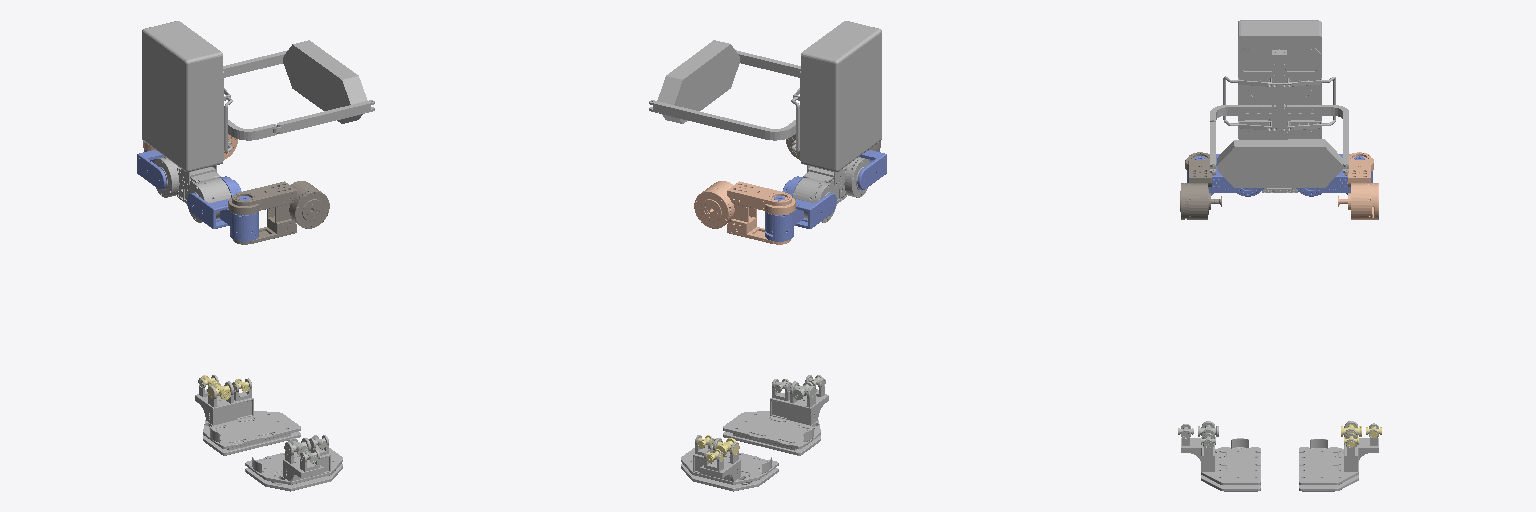
robot.urdf — SIAT:
<?xml version="1.0" encoding="utf-8"?>
<!-- This URDF was automatically created by SolidWorks to URDF Exporter! Originally created by [author] ([email redacted]) 
     Commit Version: 1.6.0-4-g7f85cfe  Build Version: 1.6.7995.38578
     For more information, please see http://wiki.ros.org/sw_urdf_exporter -->
<robot
  name="SIAT">
  <link
    name="base_link">
    <inertial>
      <origin
        xyz="0.12283 0.0054798 0.19053"
        rpy="0 0 0" />
      <mass
        value="11.483" />
      <inertia
        ixx="0.10681"
        ixy="-0.007053"
        ixz="-0.00047763"
        iyy="0.1025"
        iyz="6.0356E-05"
        izz="0.12332" />
    </inertial>
    <visual>
      <origin
        xyz="0 0 0"
        rpy="0 0 0" />
      <geometry>
        <mesh
          filename="package://SIAT/meshes/base_link.STL" />
      </geometry>
      <material
        name="">
        <color
          rgba="0.75294 0.75294 0.75294 1" />
      </material>
    </visual>
    <collision>
      <origin
        xyz="0 0 0"
        rpy="0 0 0" />
      <geometry>
        <mesh
          filename="package://SIAT/meshes/base_link.STL" />
      </geometry>
    </collision>
  </link>
  <link
    name="r_1">
    <inertial>
      <origin
        xyz="0.079905 -0.0081434 0.026887"
        rpy="0 0 0" />
      <mass
        value="2.8322" />
      <inertia
        ixx="0.0025127"
        ixy="0.00039573"
        ixz="-7.1211E-05"
        iyy="0.0065445"
        iyz="-5.6669E-05"
        izz="0.0072351" />
    </inertial>
    <visual>
      <origin
        xyz="0 0 0"
        rpy="0 0 0" />
      <geometry>
        <mesh
          filename="package://SIAT/meshes/r_1.STL" />
      </geometry>
      <material
        name="">
        <color
          rgba="0.5451 0.61569 0.85882 1" />
      </material>
    </visual>
    <collision>
      <origin
        xyz="0 0 0"
        rpy="0 0 0" />
      <geometry>
        <mesh
          filename="package://SIAT/meshes/r_1.STL" />
      </geometry>
    </collision>
  </link>
  <joint
    name="joint_r_1"
    type="revolute">
    <origin
      xyz="0 0.105 0"
      rpy="1.5708 0 1.5708" />
    <parent
      link="base_link" />
    <child
      link="r_1" />
    <axis
      xyz="0 0 -1" />
    <limit
      lower="-0.5236"
      upper="0.69813"
      effort="300"
      velocity="10" />
  </joint>
  <link
    name="r_2">
    <inertial>
      <origin
        xyz="0.11644 0.0055321 0.028381"
        rpy="0 0 0" />
      <mass
        value="4.2266" />
      <inertia
        ixx="0.0044533"
        ixy="7.1351E-05"
        ixz="-8.8635E-05"
        iyy="0.012089"
        iyz="-2.3903E-05"
        izz="0.012074" />
    </inertial>
    <visual>
      <origin
        xyz="0 0 0"
        rpy="0 0 0" />
      <geometry>
        <mesh
          filename="package://SIAT/meshes/r_2.STL" />
      </geometry>
      <material
        name="">
        <color
          rgba="0.92941 0.76863 0.67059 1" />
      </material>
    </visual>
    <collision>
      <origin
        xyz="0 0 0"
        rpy="0 0 0" />
      <geometry>
        <mesh
          filename="package://SIAT/meshes/r_2.STL" />
      </geometry>
    </collision>
  </link>
  <joint
    name="joint_r_2"
    type="revolute">
    <origin
      xyz="0.159 0 0"
      rpy="-1.5708 -1.5708 0" />
    <parent
      link="r_1" />
    <child
      link="r_2" />
    <axis
      xyz="0 0 -1" />
    <limit
      lower="-0.38397"
      upper="0.5236"
      effort="300"
      velocity="10" />
  </joint>
  <link
    name="r_3">
    <inertial>
      <origin
        xyz="0.22207 0.00020696 -0.026349"
        rpy="0 0 0" />
      <mass
        value="11.84" />
      <inertia
        ixx="0.014461"
        ixy="-0.00099269"
        ixz="-0.0049046"
        iyy="0.1909"
        iyz="0.00030176"
        izz="0.20128" />
    </inertial>
    <visual>
      <origin
        xyz="0 0 0"
        rpy="0 0 0" />
      <geometry>
        <mesh
          filename="package://SIAT/meshes/r_3.STL" />
      </geometry>
      <material
        name="">
        <color
          rgba="0.8902 0.71765 0.58824 1" />
      </material>
    </visual>
    <collision>
      <origin
        xyz="0 0 0"
        rpy="0 0 0" />
      <geometry>
        <mesh
          filename="package://SIAT/meshes/r_3.STL" />
      </geometry>
    </collision>
  </link>
  <joint
    name="joint_r_3"
    type="revolute">
    <origin
      xyz="0.205 0 0"
      rpy="-1.5708 1.5708 0" />
    <parent
      link="r_2" />
    <child
      link="r_3" />
    <axis
      xyz="0 0 1" />
    <limit
      lower="-0.69813"
      upper="0.2618"
      effort="300"
      velocity="10" />
  </joint>
  <link
    name="r_4">
    <inertial>
      <origin
        xyz="0.12085 0.011457 -0.024406"
        rpy="0 0 0" />
      <mass
        value="3.321" />
      <inertia
        ixx="0.0027063"
        ixy="-0.00041011"
        ixz="-0.00092136"
        iyy="0.013003"
        iyz="-7.9616E-05"
        izz="0.012137" />
    </inertial>
    <visual>
      <origin
        xyz="0 0 0"
        rpy="0 0 0" />
      <geometry>
        <mesh
          filename="package://SIAT/meshes/r_4.STL" />
      </geometry>
      <material
        name="">
        <color
          rgba="0.75294 1 1 1" />
      </material>
    </visual>
    <collision>
      <origin
        xyz="0 0 0"
        rpy="0 0 0" />
      <geometry>
        <mesh
          filename="package://SIAT/meshes/r_4.STL" />
      </geometry>
    </collision>
  </link>
  <joint
    name="joint_r_4"
    type="revolute">
    <origin
      xyz="0.44 0 0"
      rpy="0 0 0" />
    <parent
      link="r_3" />
    <child
      link="r_4" />
    <axis
      xyz="0 0 1" />
    <limit
      lower="-0.052399"
      upper="1.2217"
      effort="200"
      velocity="10" />
  </joint>
  <link
    name="r_5">
    <inertial>
      <origin
        xyz="-0.000208 -0.015363 -0.011661"
        rpy="0 0 0" />
      <mass
        value="0.11725" />
      <inertia
        ixx="3.2429E-05"
        ixy="3.1988E-10"
        ixz="6.8398E-11"
        iyy="2.1488E-05"
        iyz="5.1115E-16"
        izz="2.1496E-05" />
    </inertial>
    <visual>
      <origin
        xyz="0 0 0"
        rpy="0 0 0" />
      <geometry>
        <mesh
          filename="package://SIAT/meshes/r_5.STL" />
      </geometry>
      <material
        name="">
        <color
          rgba="0.92157 0.88235 0.64314 1" />
      </material>
    </visual>
    <collision>
      <origin
        xyz="0 0 0"
        rpy="0 0 0" />
      <geometry>
        <mesh
          filename="package://SIAT/meshes/r_5.STL" />
      </geometry>
    </collision>
  </link>
  <joint
    name="joint_r_5"
    type="revolute">
    <origin
      xyz="0.4 0 0"
      rpy="0 0 0" />
    <parent
      link="r_4" />
    <child
      link="r_5" />
    <axis
      xyz="0 0 1" />
    <limit
      lower="-0.62831"
      upper="0.69813"
      effort="200"
      velocity="10" />
  </joint>
  <link
    name="r_6">
    <inertial>
      <origin
        xyz="0.094957 -0.049767 0.038082"
        rpy="0 0 0" />
      <mass
        value="1.4525" />
      <inertia
        ixx="0.0098192"
        ixy="7.9321E-05"
        ixz="-2.2112E-05"
        iyy="0.0068454"
        iyz="0.0002905"
        izz="0.0033135" />
    </inertial>
    <visual>
      <origin
        xyz="0 0 0"
        rpy="0 0 0" />
      <geometry>
        <mesh
          filename="package://SIAT/meshes/r_6.STL" />
      </geometry>
      <material
        name="">
        <color
          rgba="0.75294 0.75294 0.75294 1" />
      </material>
    </visual>
    <collision>
      <origin
        xyz="0 0 0"
        rpy="0 0 0" />
      <geometry>
        <mesh
          filename="package://SIAT/meshes/r_6.STL" />
      </geometry>
    </collision>
  </link>
  <joint
    name="joint_r_6"
    type="revolute">
    <origin
      xyz="0 0 -0.0275"
      rpy="1.5708 0 0" />
    <parent
      link="r_5" />
    <child
      link="r_6" />
    <axis
      xyz="0 0 -1" />
    <limit
      lower="-0.43633"
      upper="0.34907"
      effort="200"
      velocity="10" />
  </joint>
  <link
    name="l_1">
    <inertial>
      <origin
        xyz="0.08002 0.0081433 0.026963"
        rpy="0 0 0" />
      <mass
        value="2.8322" />
      <inertia
        ixx="0.0025118"
        ixy="-0.00039481"
        ixz="-7.0805E-05"
        iyy="0.0065445"
        iyz="5.728E-05"
        izz="0.007236" />
    </inertial>
    <visual>
      <origin
        xyz="0 0 0"
        rpy="0 0 0" />
      <geometry>
        <mesh
          filename="package://SIAT/meshes/l_1.STL" />
      </geometry>
      <material
        name="">
        <color
          rgba="0.5451 0.61569 0.85882 1" />
      </material>
    </visual>
    <collision>
      <origin
        xyz="0 0 0"
        rpy="0 0 0" />
      <geometry>
        <mesh
          filename="package://SIAT/meshes/l_1.STL" />
      </geometry>
    </collision>
  </link>
  <joint
    name="joint_l_1"
    type="revolute">
    <origin
      xyz="0 -0.105 0"
      rpy="-1.5708 0 -1.5708" />
    <parent
      link="base_link" />
    <child
      link="l_1" />
    <axis
      xyz="0 0 -1" />
    <limit
      lower="-0.69813"
      upper="0.5236"
      effort="300"
      velocity="10" />
  </joint>
  <link
    name="l_2">
    <inertial>
      <origin
        xyz="0.11644 -0.0055321 0.028383"
        rpy="0 0 0" />
      <mass
        value="4.2266" />
      <inertia
        ixx="0.0044012"
        ixy="-7.2688E-05"
        ixz="-0.00010249"
        iyy="0.012089"
        iyz="2.2164E-05"
        izz="0.012126" />
    </inertial>
    <visual>
      <origin
        xyz="0 0 0"
        rpy="0 0 0" />
      <geometry>
        <mesh
          filename="package://SIAT/meshes/l_2.STL" />
      </geometry>
      <material
        name="">
        <color
          rgba="0.64706 0.61961 0.58824 1" />
      </material>
    </visual>
    <collision>
      <origin
        xyz="0 0 0"
        rpy="0 0 0" />
      <geometry>
        <mesh
          filename="package://SIAT/meshes/l_2.STL" />
      </geometry>
    </collision>
  </link>
  <joint
    name="joint_l_2"
    type="revolute">
    <origin
      xyz="0.159 0 0"
      rpy="1.5708 -1.5708 0" />
    <parent
      link="l_1" />
    <child
      link="l_2" />
    <axis
      xyz="0 0 -1" />
    <limit
      lower="-0.5236"
      upper="0.38397"
      effort="300"
      velocity="10" />
  </joint>
  <link
    name="l_3">
    <inertial>
      <origin
        xyz="0.22192 0.00017641 0.030643"
        rpy="0 0 0" />
      <mass
        value="11.835" />
      <inertia
        ixx="0.014422"
        ixy="-0.00098286"
        ixz="0.0049082"
        iyy="0.19094"
        iyz="-0.00029818"
        izz="0.20127" />
    </inertial>
    <visual>
      <origin
        xyz="0 0 0"
        rpy="0 0 0" />
      <geometry>
        <mesh
          filename="package://SIAT/meshes/l_3.STL" />
      </geometry>
      <material
        name="">
        <color
          rgba="0.8902 0.71765 0.58824 1" />
      </material>
    </visual>
    <collision>
      <origin
        xyz="0 0 0"
        rpy="0 0 0" />
      <geometry>
        <mesh
          filename="package://SIAT/meshes/l_3.STL" />
      </geometry>
    </collision>
  </link>
  <joint
    name="joint_l_3"
    type="revolute">
    <origin
      xyz="0.205 -0.0042446 0"
      rpy="-1.5708 1.5708 0" />
    <parent
      link="l_2" />
    <child
      link="l_3" />
    <axis
      xyz="0 0 -1" />
    <limit
      lower="-0.69813"
      upper="0.2618"
      effort="300"
      velocity="10" />
  </joint>
  <link
    name="l_4">
    <inertial>
      <origin
        xyz="0.12027 0.011268 0.028835"
        rpy="0 0 0" />
      <mass
        value="3.3252" />
      <inertia
        ixx="0.0027061"
        ixy="-0.00041124"
        ixz="0.00092324"
        iyy="0.013004"
        iyz="7.962E-05"
        izz="0.012137" />
    </inertial>
    <visual>
      <origin
        xyz="0 0 0"
        rpy="0 0 0" />
      <geometry>
        <mesh
          filename="package://SIAT/meshes/l_4.STL" />
      </geometry>
      <material
        name="">
        <color
          rgba="0.64706 0.61961 0.58824 1" />
      </material>
    </visual>
    <collision>
      <origin
        xyz="0 0 0"
        rpy="0 0 0" />
      <geometry>
        <mesh
          filename="package://SIAT/meshes/l_4.STL" />
      </geometry>
    </collision>
  </link>
  <joint
    name="joint_l_4"
    type="revolute">
    <origin
      xyz="0.44 0 0"
      rpy="0 0 0" />
    <parent
      link="l_3" />
    <child
      link="l_4" />
    <axis
      xyz="0 0 -1" />
    <limit
      lower="-0.052399"
      upper="1.2217"
      effort="300"
      velocity="10" />
  </joint>
  <link
    name="l_5">
    <inertial>
      <origin
        xyz="-6.4804E-11 -0.015497 0.016136"
        rpy="0 0 0" />
      <mass
        value="0.11805" />
      <inertia
        ixx="3.2455E-05"
        ixy="-3.133E-10"
        ixz="3.7122E-10"
        iyy="2.1552E-05"
        iyz="-1.5081E-15"
        izz="2.1516E-05" />
    </inertial>
    <visual>
      <origin
        xyz="0 0 0"
        rpy="0 0 0" />
      <geometry>
        <mesh
          filename="package://SIAT/meshes/l_5.STL" />
      </geometry>
      <material
        name="">
        <color
          rgba="0.75686 0.76863 0.75294 1" />
      </material>
    </visual>
    <collision>
      <origin
        xyz="0 0 0"
        rpy="0 0 0" />
      <geometry>
        <mesh
          filename="package://SIAT/meshes/l_5.STL" />
      </geometry>
    </collision>
  </link>
  <joint
    name="joint_l_5"
    type="revolute">
    <origin
      xyz="0.4 0 0"
      rpy="0 0 0" />
    <parent
      link="l_4" />
    <child
      link="l_5" />
    <axis
      xyz="0 0 -1" />
    <limit
      lower="-0.62831"
      upper="0.69813"
      effort="200"
      velocity="10" />
  </joint>
  <link
    name="l_6">
    <inertial>
      <origin
        xyz="0.049726 -0.094974 0.038045"
        rpy="0 0 0" />
      <mass
        value="1.4527" />
      <inertia
        ixx="0.006844"
        ixy="7.9121E-05"
        ixz="-0.00029087"
        iyy="0.0098206"
        iyz="2.2749E-05"
        izz="0.003315" />
    </inertial>
    <visual>
      <origin
        xyz="0 0 0"
        rpy="0 0 0" />
      <geometry>
        <mesh
          filename="package://SIAT/meshes/l_6.STL" />
      </geometry>
      <material
        name="">
        <color
          rgba="0.75294 0.75294 0.75294 1" />
      </material>
    </visual>
    <collision>
      <origin
        xyz="0 0 0"
        rpy="0 0 0" />
      <geometry>
        <mesh
          filename="package://SIAT/meshes/l_6.STL" />
      </geometry>
    </collision>
  </link>
  <joint
    name="joint_l_6"
    type="revolute">
    <origin
      xyz="0 0 0.031745"
      rpy="1.5708 -1.5708 0" />
    <parent
      link="l_5" />
    <child
      link="l_6" />
    <axis
      xyz="0 0 1" />
    <limit
      lower="-0.34907"
      upper="0.43633"
      effort="200"
      velocity="10" />
  </joint>
</robot>

--- Render facts (derived) ---
3 views of the same robot in one strip: view 1: azimuth 30°, elevation 25°; view 2: azimuth 150°, elevation 25°; view 3: azimuth 270°, elevation 25° (orthographic).
Model SIAT with 13 links and 12 joints (12 revolute), rooted at base_link, posed every joint at zero.
Links seen in each view (by area): view 1: base_link, r_6, l_2, l_6, l_1, r_1; view 2: base_link, l_6, r_2, r_6, r_1, l_1; view 3: base_link, l_6, r_6, r_2, l_2, l_1, r_1.
Boxes of the visible links, left/top/right/bottom form: base_link: left=142, top=21, right=374, bottom=222; r_6: left=195, top=375, right=300, bottom=455; l_2: left=228, top=181, right=329, bottom=244; l_6: left=245, top=435, right=342, bottom=491; l_1: left=187, top=176, right=258, bottom=241; r_1: left=137, top=149, right=166, bottom=189; base_link: left=649, top=21, right=881, bottom=222; l_6: left=723, top=375, right=828, bottom=455; r_2: left=694, top=181, right=795, bottom=244; r_6: left=681, top=435, right=778, bottom=491; r_1: left=765, top=176, right=836, bottom=241; l_1: left=857, top=149, right=886, bottom=189; base_link: left=1210, top=20, right=1348, bottom=192; l_6: left=1181, top=421, right=1260, bottom=491; r_6: left=1299, top=421, right=1378, bottom=491; r_2: left=1338, top=152, right=1378, bottom=219; l_2: left=1180, top=152, right=1221, bottom=219; l_1: left=1187, top=154, right=1263, bottom=196; r_1: left=1296, top=154, right=1372, bottom=196.
Bounding box of the posed robot: 0.62 × 0.675 × 1.48 m (x, y, z).
9 mesh visuals loaded from 13 distinct referenced files (9 binary STL); not drawn: 4 (reference not matched to a file when rendering).